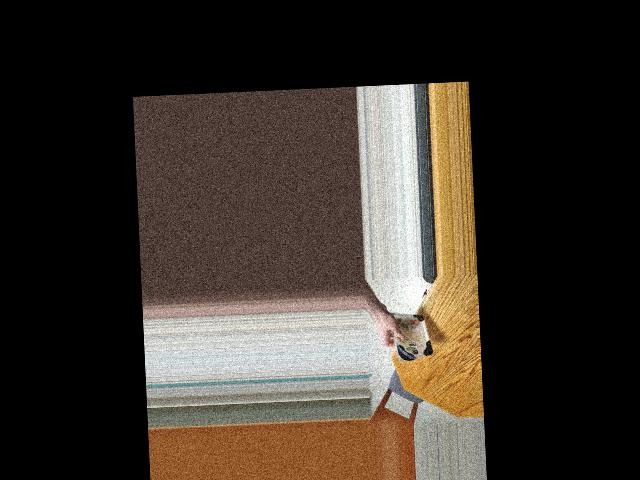cheese: (388, 303, 430, 363)
